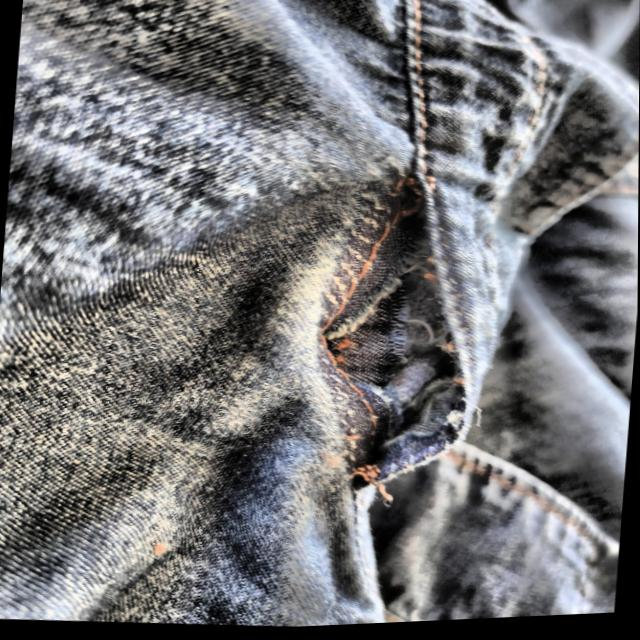seam: (299, 171, 501, 499)
